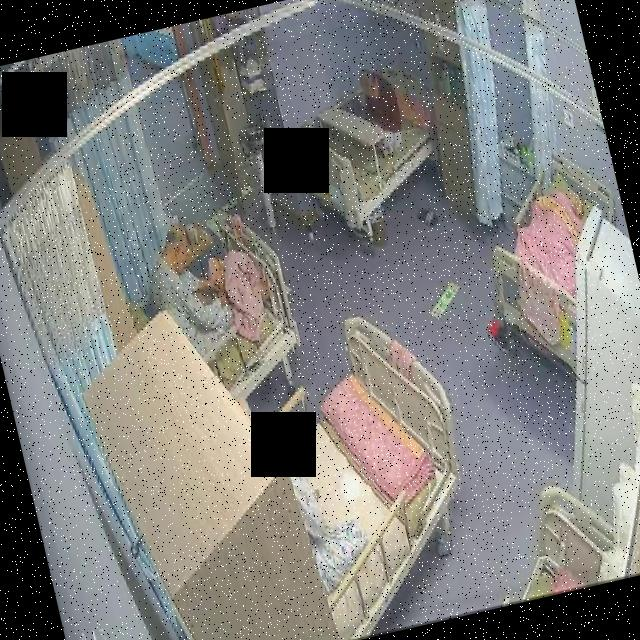bed: (256, 300, 496, 640), (464, 138, 640, 387), (146, 204, 310, 418), (278, 55, 451, 238)
patient: (134, 206, 282, 367), (350, 62, 410, 160)
sit: (138, 208, 280, 362), (349, 60, 411, 158)
